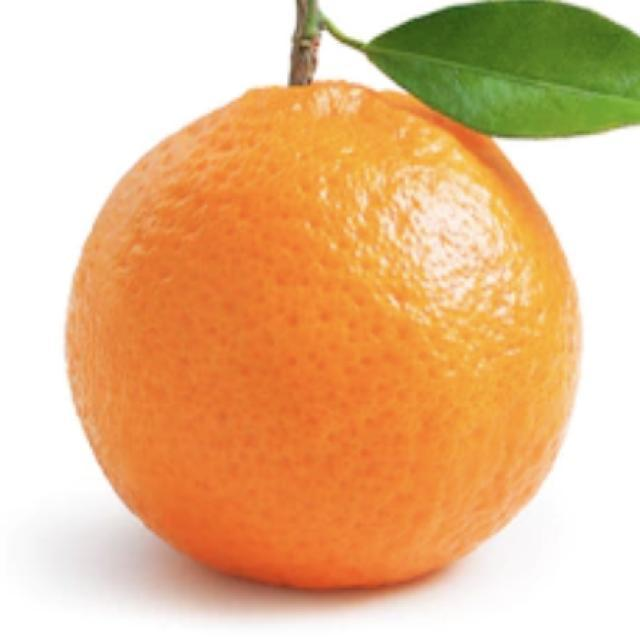Orange: (64, 78, 583, 591)
